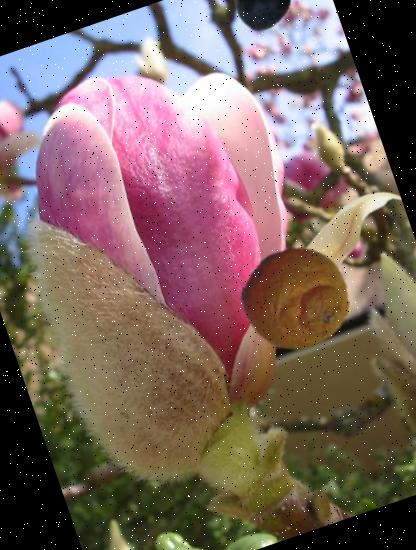Blueberry: (222, 0, 303, 39)
Mandarine: (228, 229, 364, 366)
